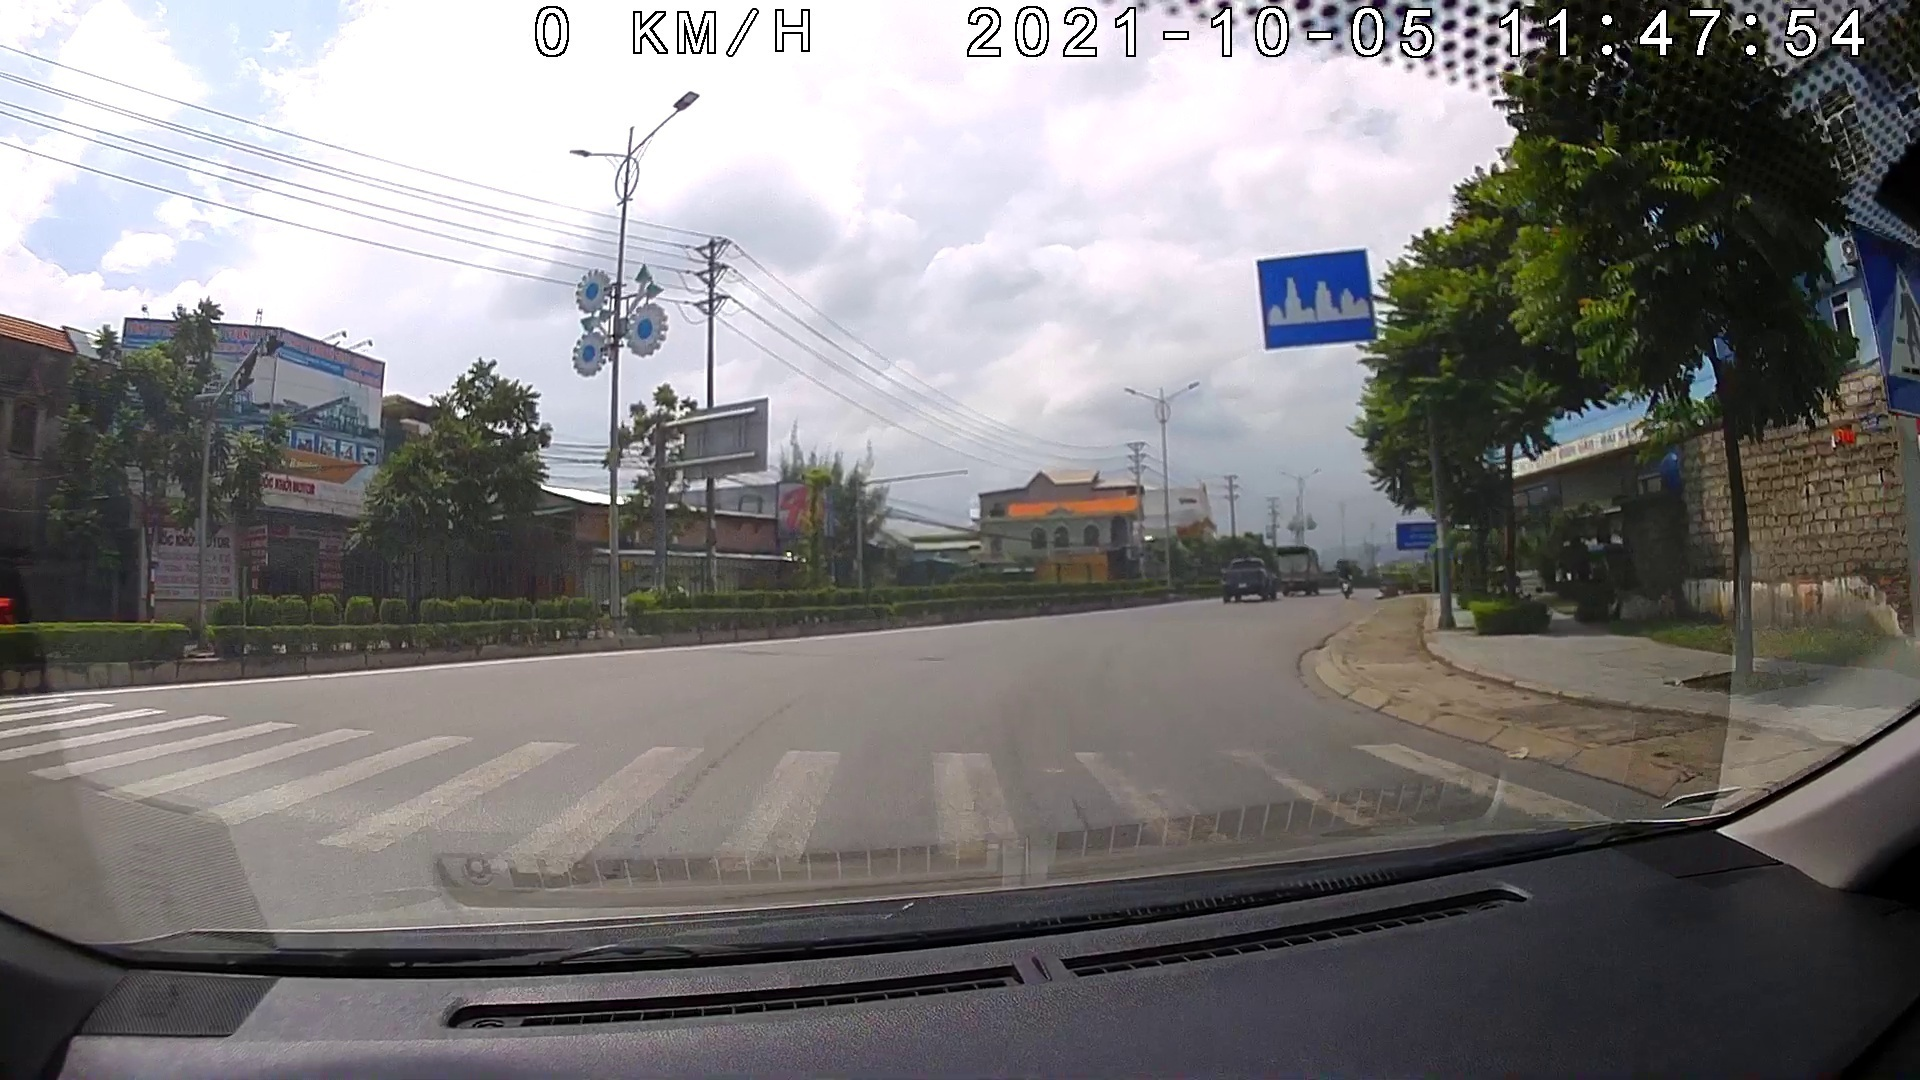Bien khac: (1255, 247, 1378, 351)
Nguoi di bo: (1850, 218, 1919, 419)
